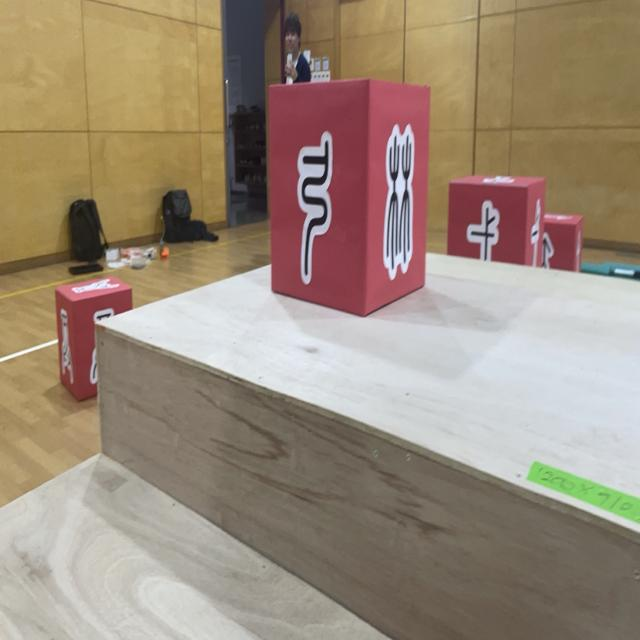2: (383, 123, 414, 280)
4: (298, 130, 332, 284)
8: (91, 309, 114, 388), (60, 306, 74, 386), (71, 277, 120, 294)
9: (468, 198, 501, 263), (530, 199, 540, 267)
fighter: (268, 76, 431, 318), (55, 275, 133, 401), (446, 175, 546, 268), (544, 214, 584, 274)
